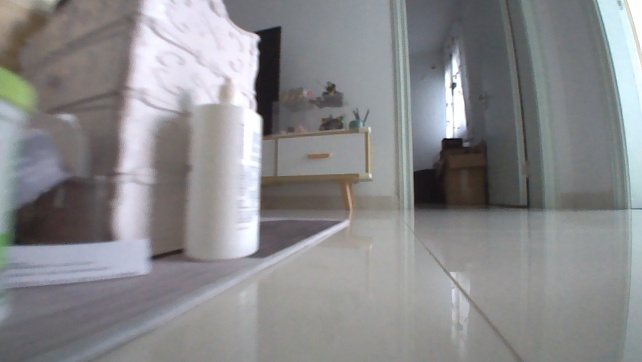TV_stand1: (260, 125, 375, 210)
blanket: (0, 213, 357, 361)
door_anno: (476, 0, 557, 210)
